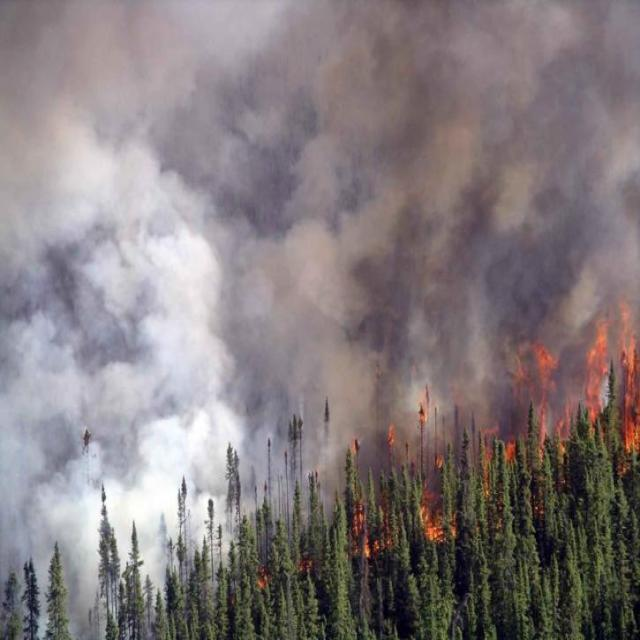Fire: (322, 436, 505, 570), (503, 346, 640, 486)
Smoke: (0, 0, 629, 192), (12, 156, 200, 491)
